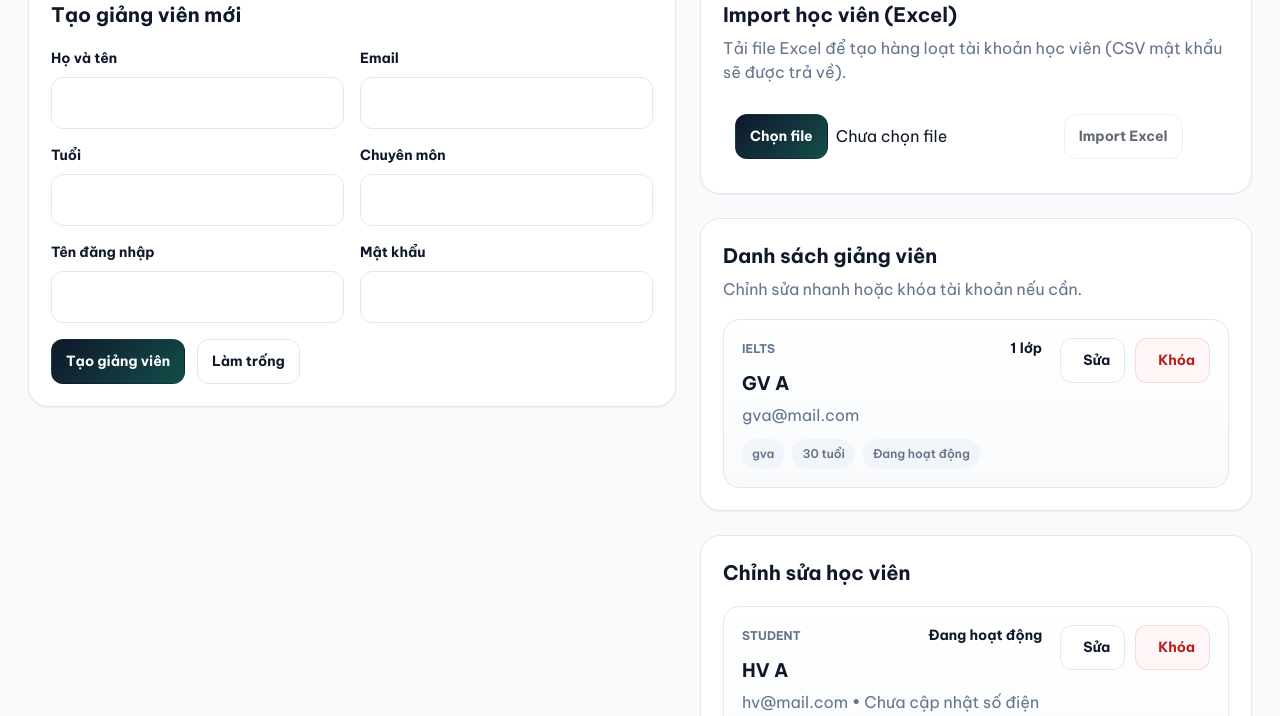
AdminUsersPage › render du lieu giao vien va cho sua nhanh
(page scrolled)
Check: the heading "GV A" is shown, box [742,371,789,395]
What coordinates should you click on to do the following:
click the button "Sửa" in the row of "GV A"
I would click on:
 (1093, 360)
Its box is [1060,338,1125,383].
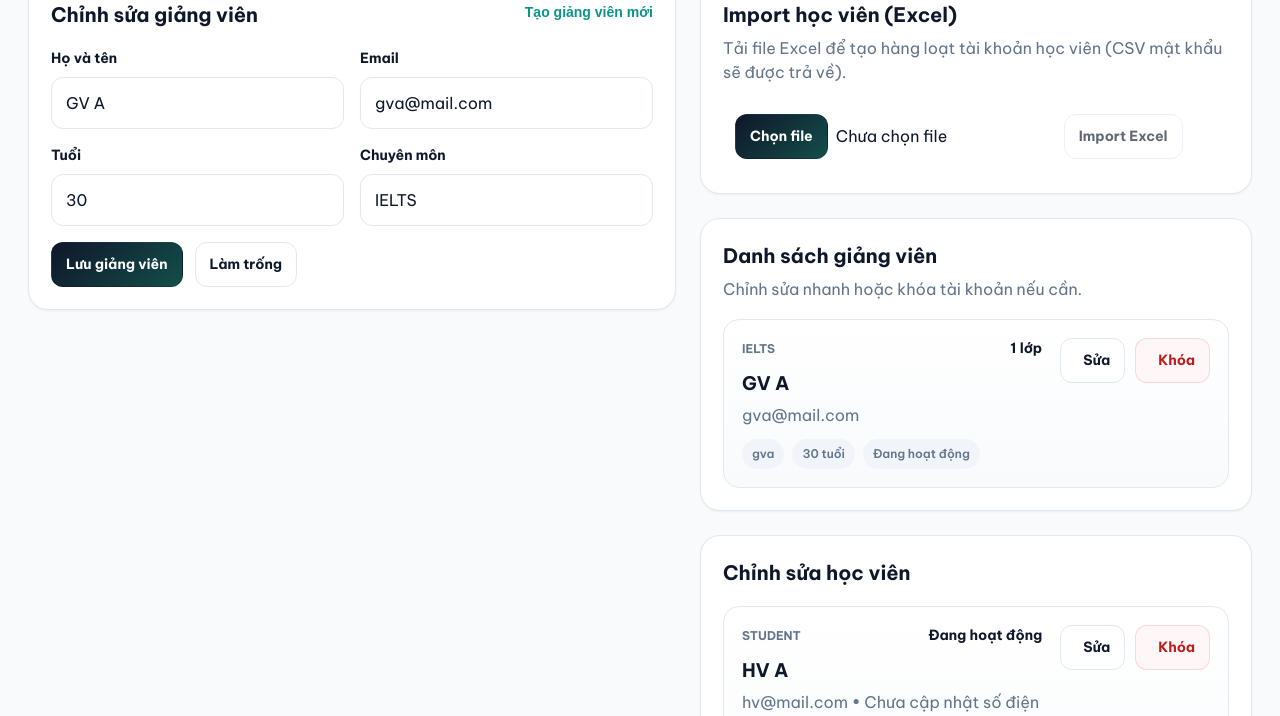
Check: the field labelled "Họ và tên" holds "GV A", box [51,77,344,129]
